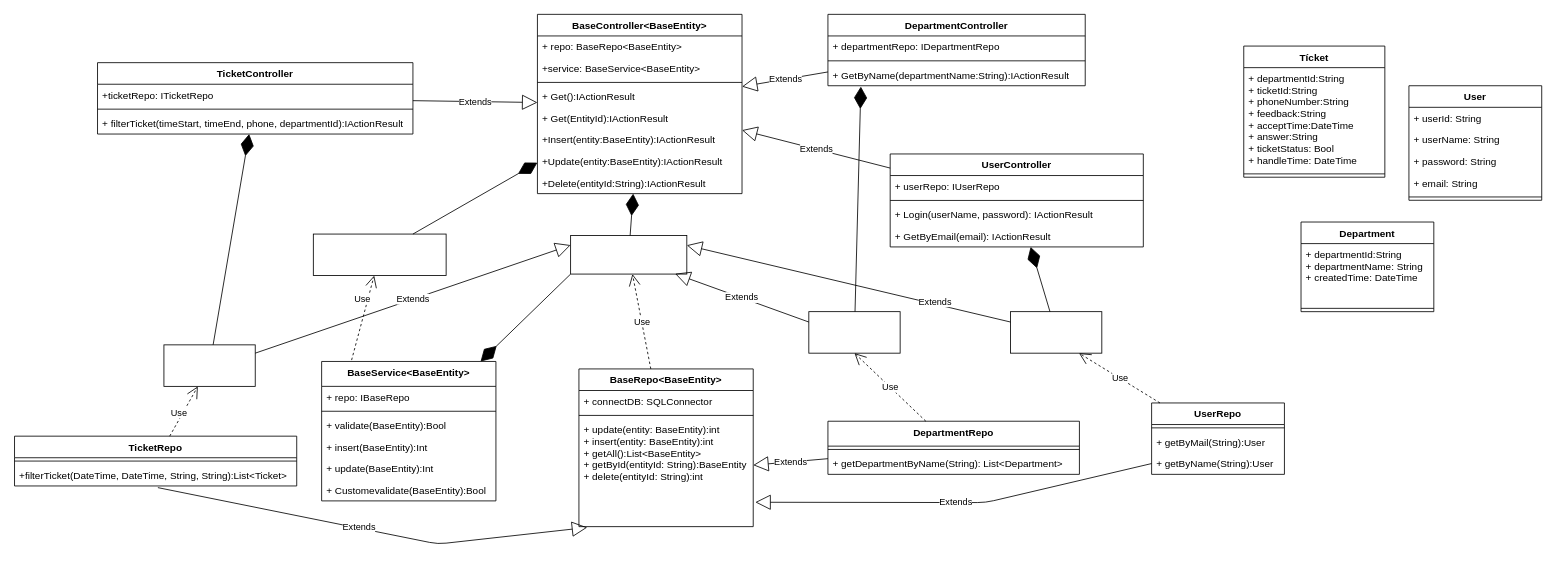
The diagram is 1556 pixels wide and 574 high, and some of its shapes have lost their labels. The centre of each missing label's shape, as x and y in pixels:
"«interface» IBaseRepo<BaseEntity>" goes at [628,254].
"«interface» IBaseService<BaseEntity>" goes at [379,254].
"«interface» IDepartmentRepo" goes at [854,332].
"«interface» ITicketRepo" goes at [209,365].
"«interface» IUserRepo" goes at [1056,332].
